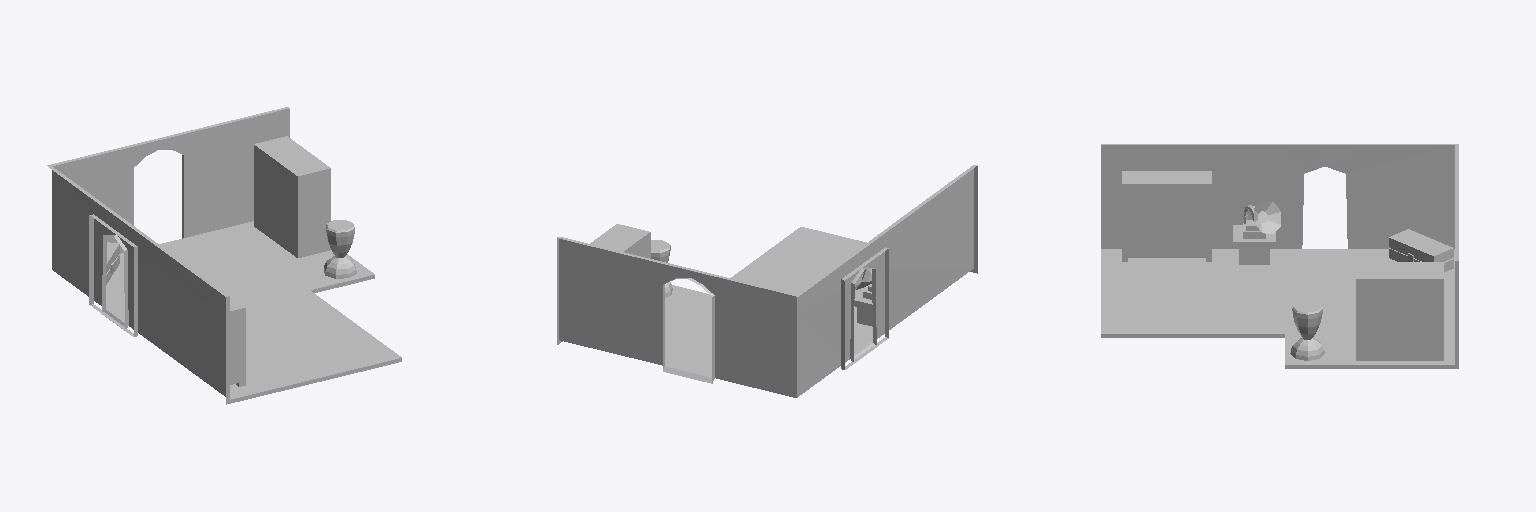
File: quarto.obj
3 views of the same model, side by side, from view 1: azimuth 30°, elevation 25°; view 2: azimuth 150°, elevation 25°; view 3: azimuth 270°, elevation 25° (orthographic).
Parts seen in each view (by area): view 1: Circle.003; view 2: Circle.003; view 3: Circle.003.
Boxes of the visible parts, box(x1,y1,x2,y2) form: Circle.003: box(47, 107, 401, 404); Circle.003: box(557, 165, 977, 397); Circle.003: box(1101, 144, 1458, 368).
Size of the model in its own units: 6.21 by 2.63 by 7.93.